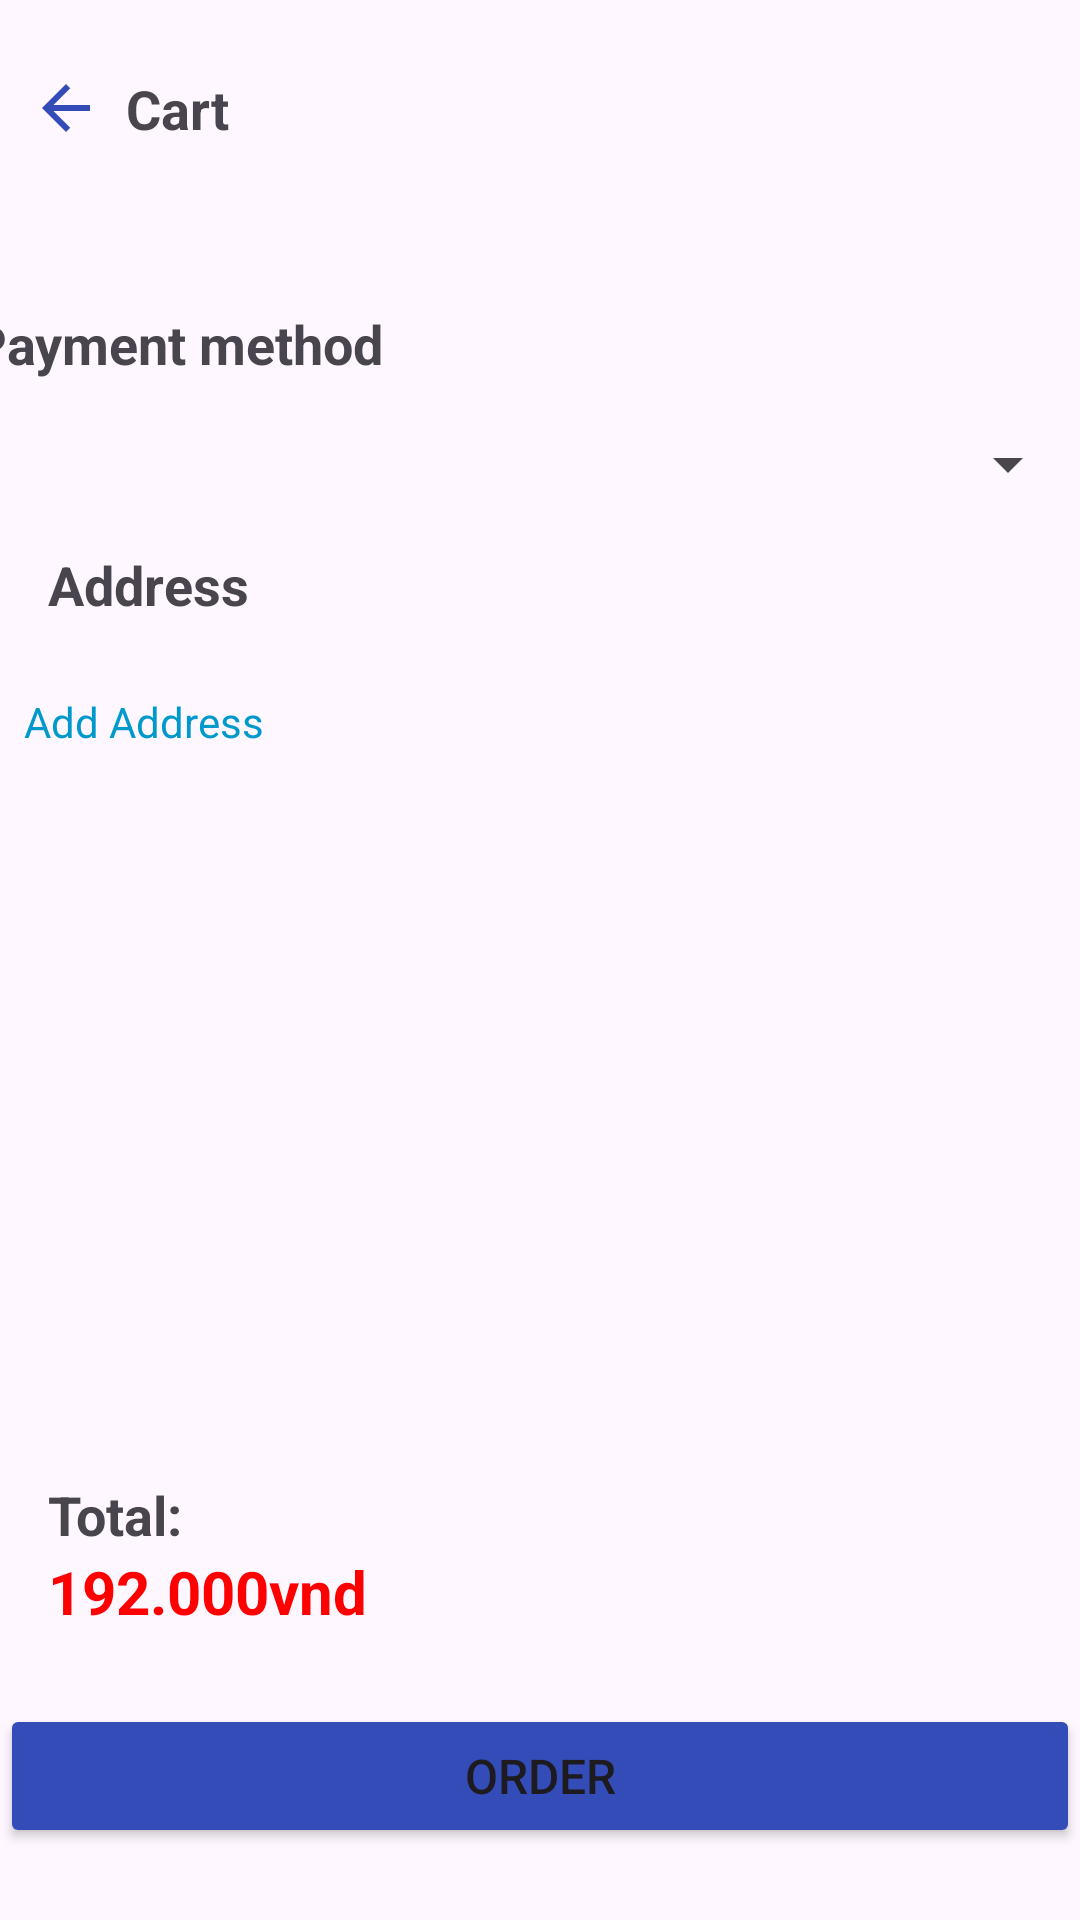

Icons on this 1080 x 1920 Android screen, each with the point to tap as [x,y]:
arrow back: [66,108]
